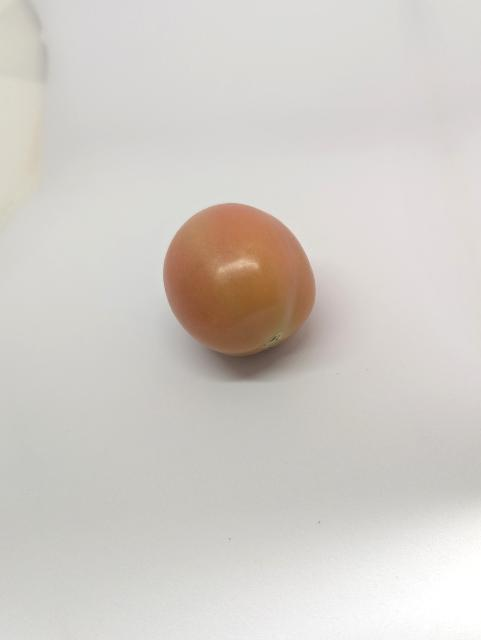turning: (147, 186, 333, 367)
